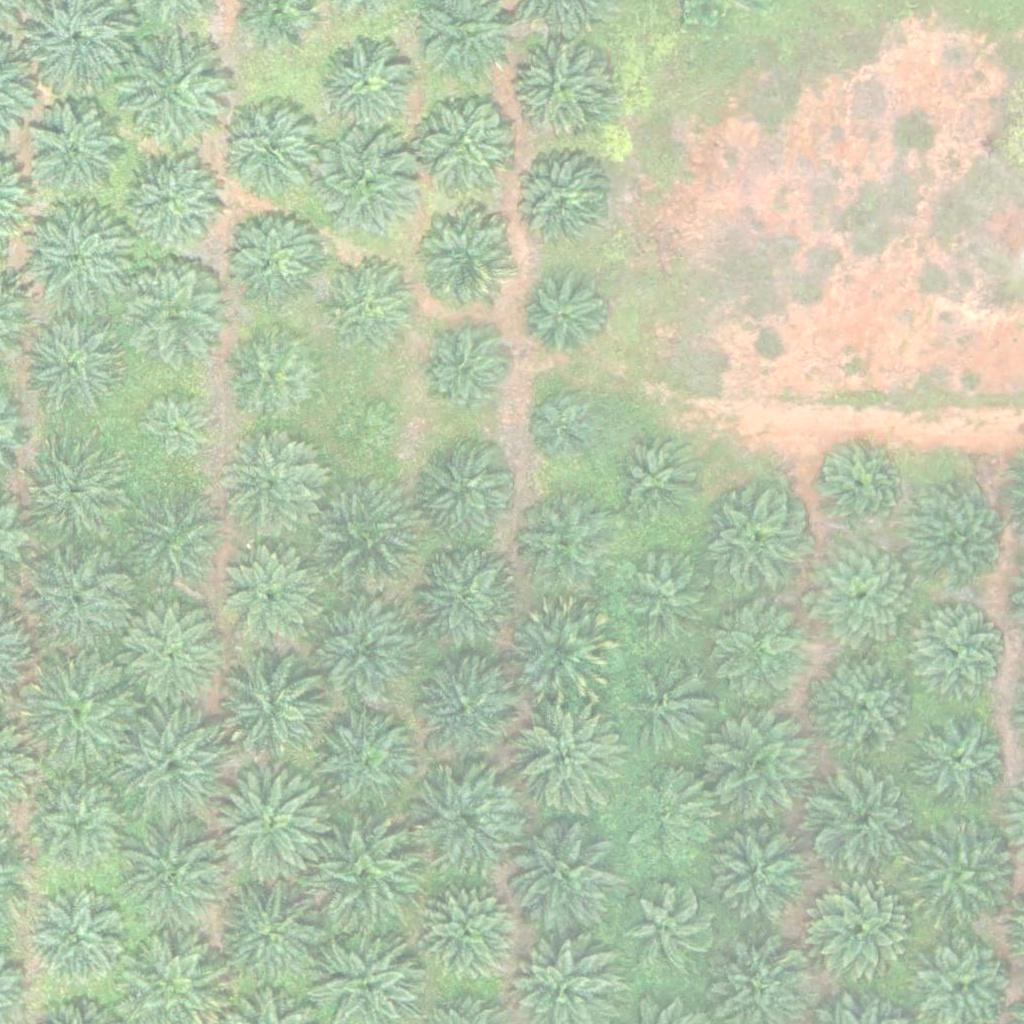Kelapa_Sawit: (409, 87, 522, 201), (307, 126, 420, 240), (118, 816, 231, 930), (807, 540, 920, 654), (811, 652, 924, 766), (908, 816, 1021, 930), (505, 596, 618, 709), (408, 437, 521, 550), (24, 205, 137, 318), (22, 649, 135, 762), (119, 709, 232, 822), (213, 770, 326, 883), (215, 879, 328, 992), (509, 700, 622, 813), (504, 817, 617, 930), (117, 38, 229, 151), (409, 545, 521, 658), (310, 474, 422, 587), (308, 596, 420, 709), (20, 546, 132, 659), (216, 650, 328, 763), (306, 703, 418, 816), (305, 819, 417, 932), (408, 766, 520, 879), (709, 710, 821, 823), (707, 818, 819, 931), (811, 767, 923, 880), (25, 102, 125, 203), (511, 37, 611, 138), (513, 493, 613, 594), (324, 256, 424, 357), (222, 205, 322, 306), (226, 324, 326, 425), (218, 432, 318, 533), (218, 543, 318, 644), (122, 150, 222, 251), (123, 262, 223, 363), (125, 488, 225, 589), (123, 604, 223, 705), (23, 311, 123, 412), (20, 444, 120, 545), (414, 658, 514, 759), (417, 881, 517, 982), (813, 878, 913, 979), (910, 492, 1010, 593), (215, 101, 315, 201), (314, 36, 414, 136), (513, 151, 613, 251), (414, 211, 514, 311), (27, 889, 127, 989), (706, 492, 806, 592), (719, 602, 819, 702), (910, 601, 1010, 701), (913, 712, 1013, 812), (518, 275, 606, 363), (613, 437, 701, 525), (33, 786, 121, 874), (624, 667, 712, 755), (629, 557, 716, 645), (420, 327, 507, 415), (628, 771, 715, 859), (623, 885, 710, 973), (814, 440, 901, 528), (136, 394, 211, 469), (531, 395, 594, 458), (333, 398, 395, 461)
